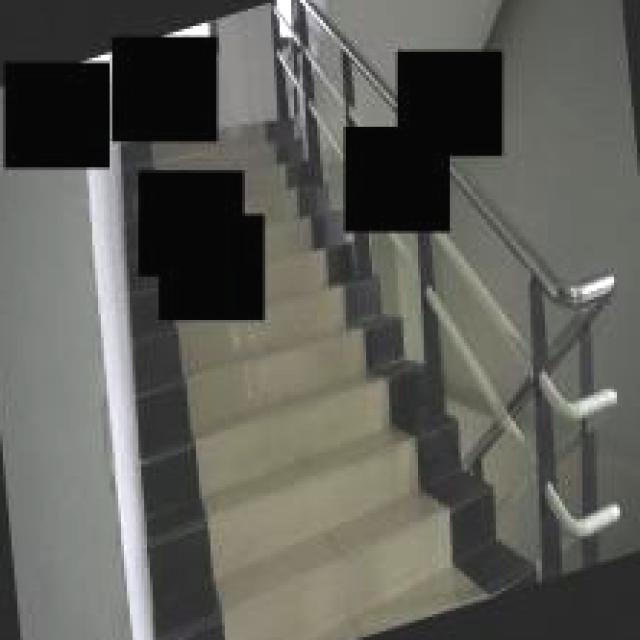upstair: (128, 335, 552, 640)
